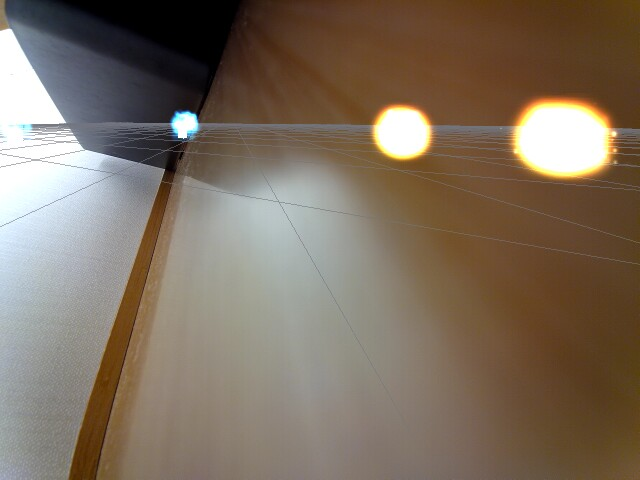firebig: (507, 97, 622, 184)
